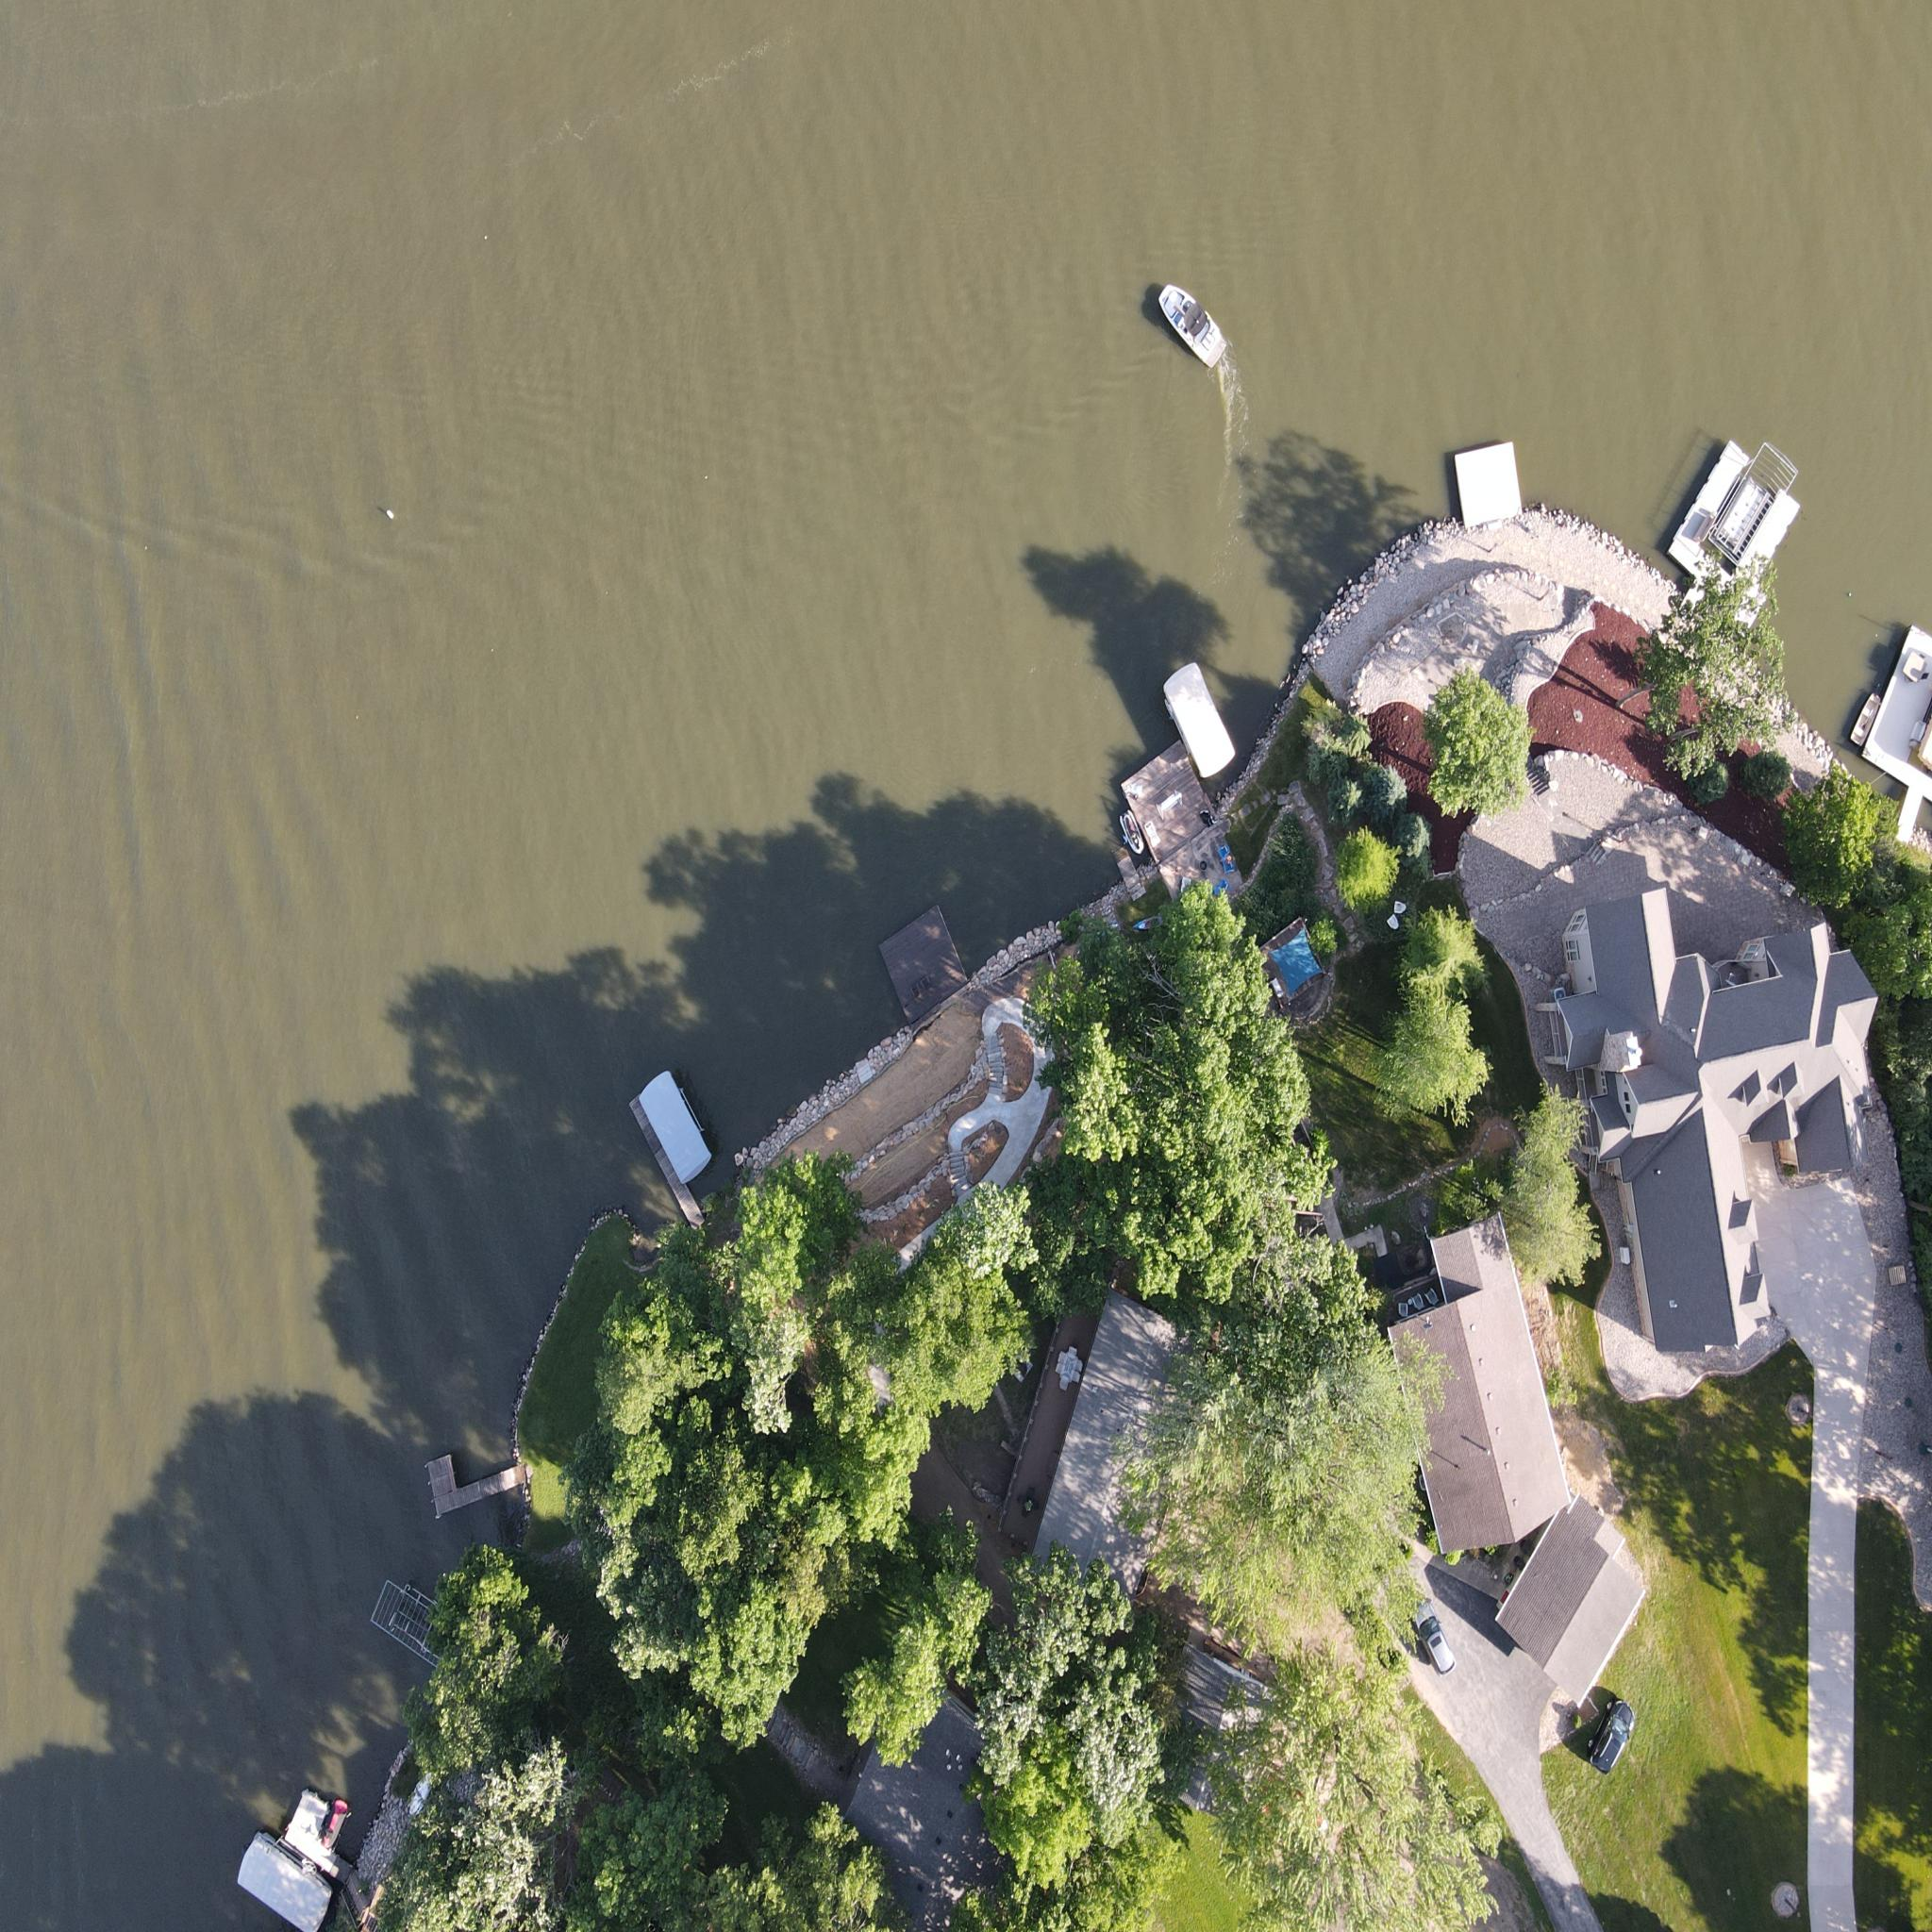boat: (416, 1440, 531, 1522), (1148, 278, 1233, 375)
car: (1582, 1698, 1644, 1780), (1410, 1598, 1465, 1683)
dock: (1660, 430, 1806, 623), (1859, 609, 1932, 847), (1122, 736, 1219, 865), (626, 1092, 708, 1240), (874, 901, 968, 1028), (281, 1783, 359, 1882), (1451, 433, 1529, 525)
jetski: (320, 1798, 352, 1849), (1118, 810, 1152, 858)
lift: (1709, 433, 1801, 566), (635, 1060, 724, 1187), (230, 1829, 333, 1932), (1157, 656, 1242, 780), (370, 1568, 458, 1670)
